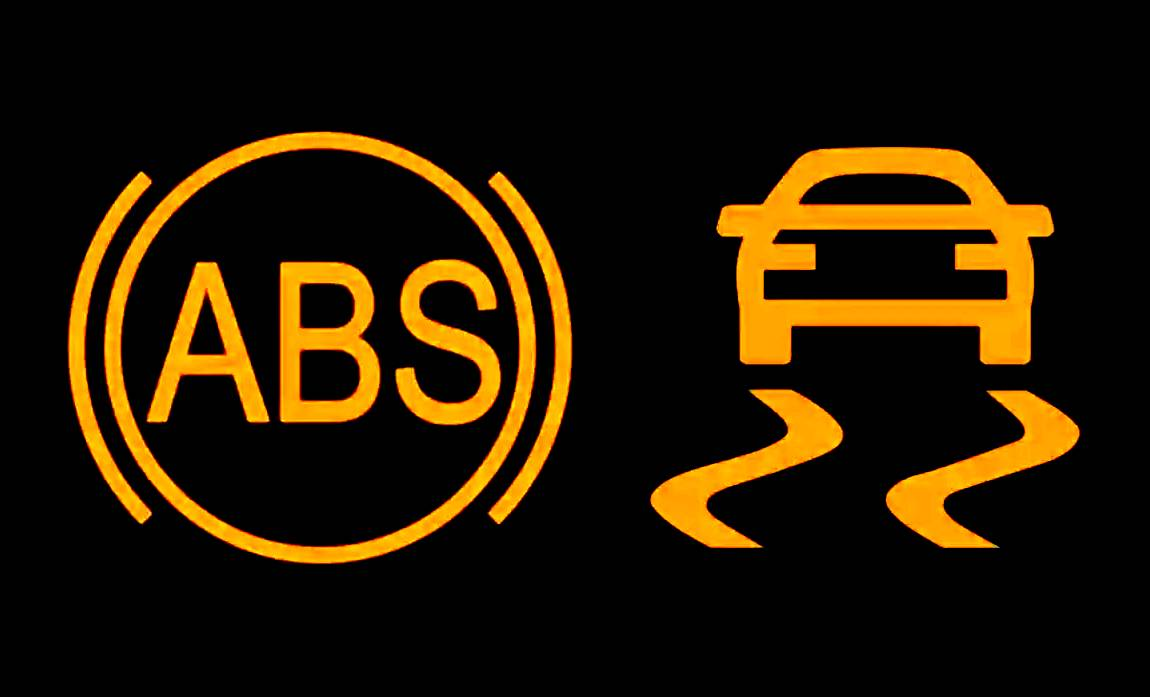ABS: (47, 121, 581, 566)
